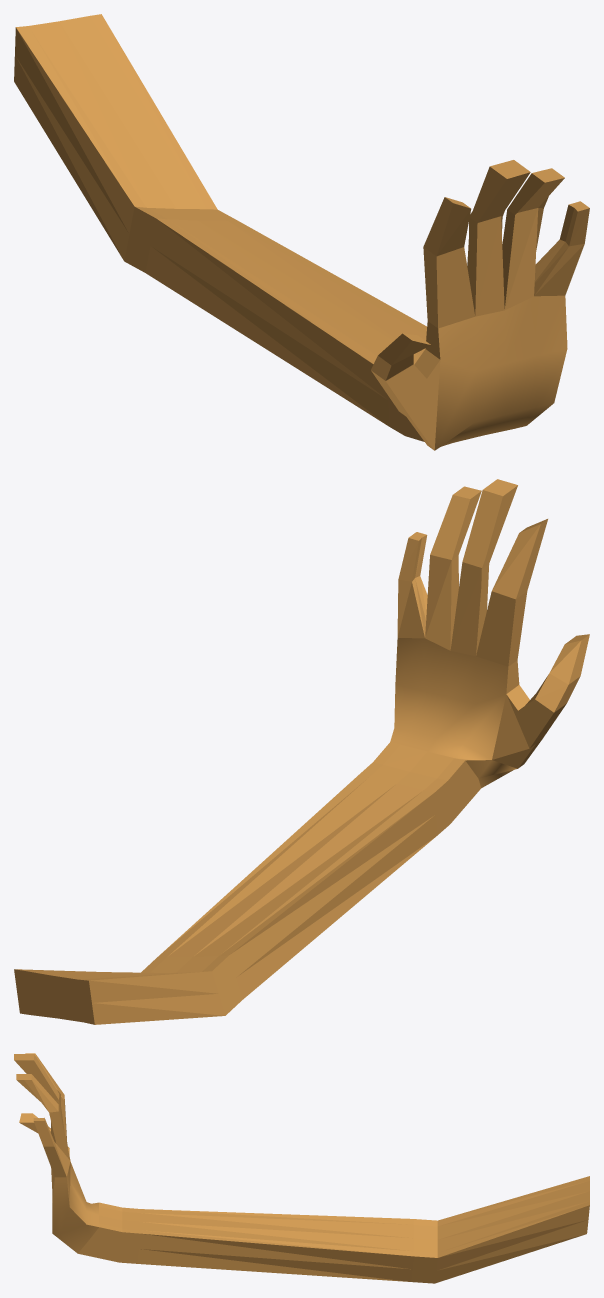
File: RekaLewaRescale.FBX
3 views of the same model, one above another, from view 1: azimuth 30°, elevation 25°; view 2: azimuth 150°, elevation 25°; view 3: azimuth 270°, elevation 25° (orthographic). The views are drawn at different scales.
Visible parts, largest first — view 1: Reka lewa; view 2: Reka lewa; view 3: Reka lewa.
Part boxes in pixels (x1,y1,x2,y2): Reka lewa: [14, 14, 589, 450]; Reka lewa: [14, 479, 589, 1024]; Reka lewa: [14, 1053, 589, 1283].
Size of the model in its own units: 115 by 203 by 497.
